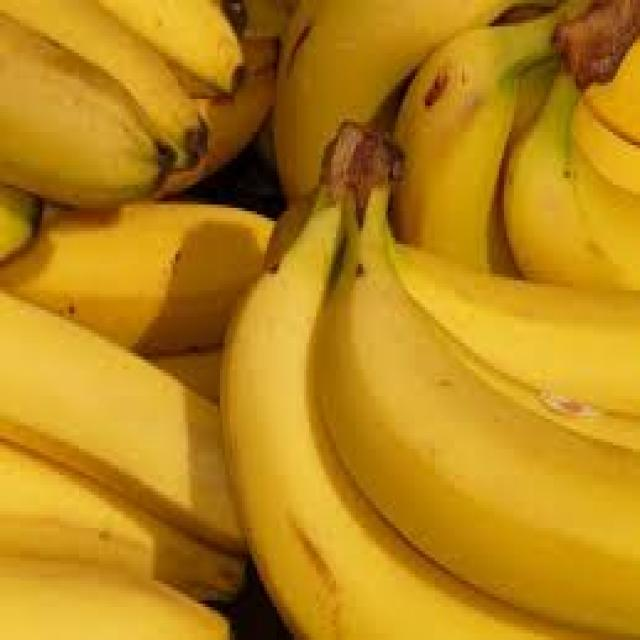banana: (220, 115, 640, 640), (1, 206, 267, 637), (279, 1, 639, 294), (0, 0, 242, 205)
